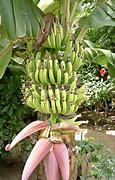banana: (26, 37, 76, 119), (29, 82, 68, 110)
